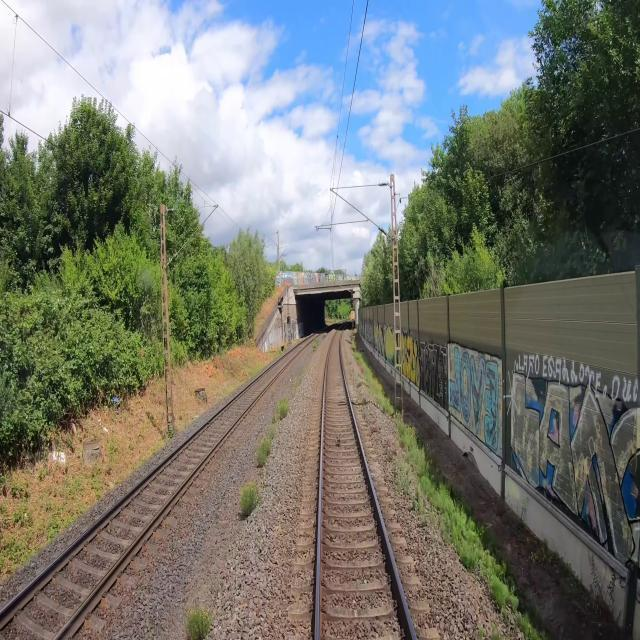Plant: (351, 339, 388, 418), (430, 502, 472, 569), (406, 454, 428, 524), (185, 608, 210, 639), (240, 482, 258, 515), (396, 460, 410, 495), (258, 437, 272, 465), (292, 367, 306, 395), (381, 444, 394, 460), (278, 400, 287, 419), (312, 339, 320, 351), (491, 628, 499, 639), (336, 433, 341, 447), (269, 423, 274, 436), (478, 627, 483, 639), (370, 426, 377, 432), (362, 398, 366, 405)
